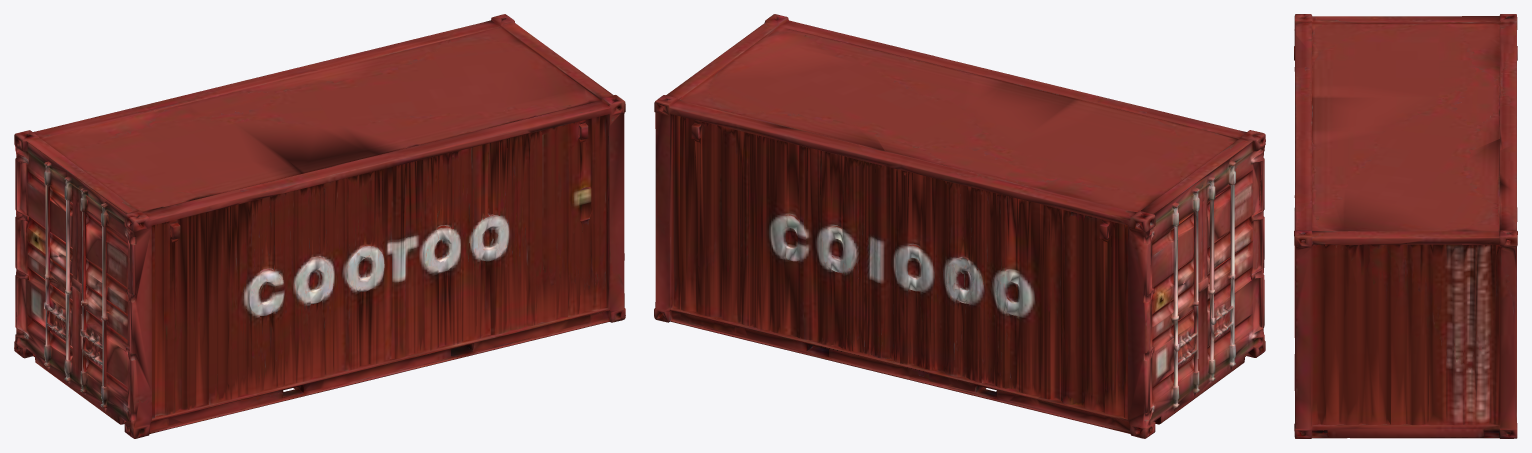
Rendered from 0-shipping-container-lowres.glb.
3 renders of one model, left to right at view 1: azimuth 30°, elevation 25°; view 2: azimuth 150°, elevation 25°; view 3: azimuth 270°, elevation 25°, orthographic. The views are drawn at different scales.
Visible parts, largest first — view 1: node_0; view 2: node_0; view 3: node_0.
Boxes of the visible parts, x1,y1,x2,y2 form: node_0: (14, 14, 625, 438); node_0: (654, 14, 1265, 438); node_0: (1294, 14, 1517, 438).
Bounding box in the file's own units: 1.03 × 0.4382 × 0.4375.
1 material, 1 textured.
